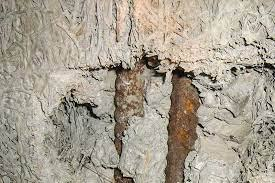Exposed reinforcement: (163, 70, 200, 183), (112, 57, 145, 159), (113, 166, 135, 183)
Spalling: (42, 43, 275, 183)
